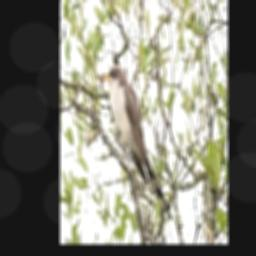Cuckoo: (103, 64, 173, 223)
